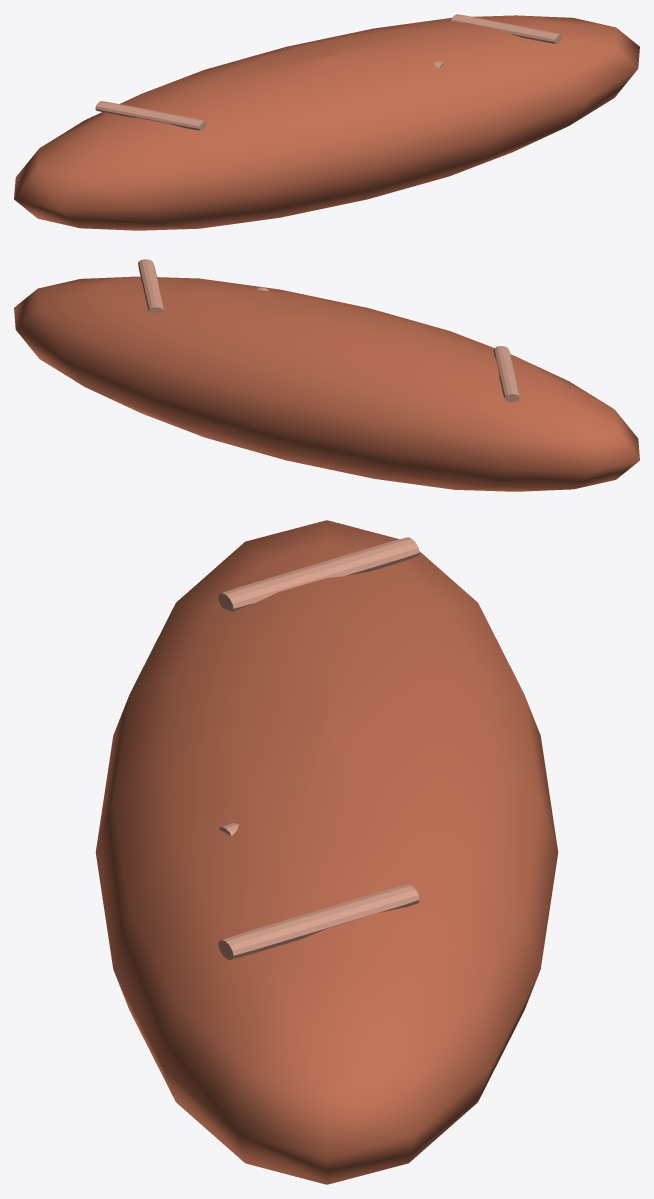
Rendered from sausage_cooked.glb.
3 renders of one model, top to bottom at view 1: azimuth 30°, elevation 25°; view 2: azimuth 150°, elevation 25°; view 3: azimuth 270°, elevation 25°, orthographic. The views are drawn at different scales.
Visible parts, largest first — view 1: model; view 2: model; view 3: model.
Boxes of the visible parts, x1,y1,x2,y2 form: model: (14,14,639,230); model: (14,259,639,491); model: (95,520,558,1184).
Bounding box in the file's own units: 0.25 × 0.05 × 0.08.
